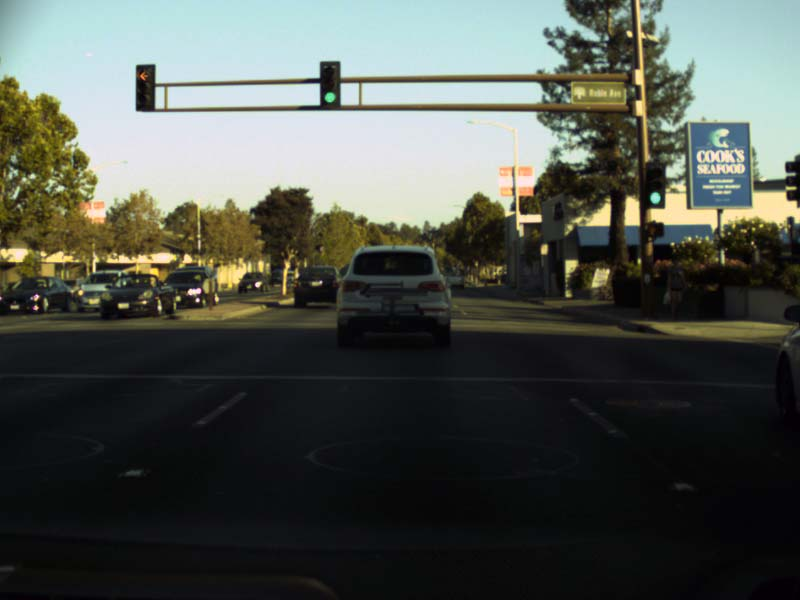Green: (319, 61, 340, 106), (645, 163, 663, 207)
Red: (135, 64, 154, 110)
